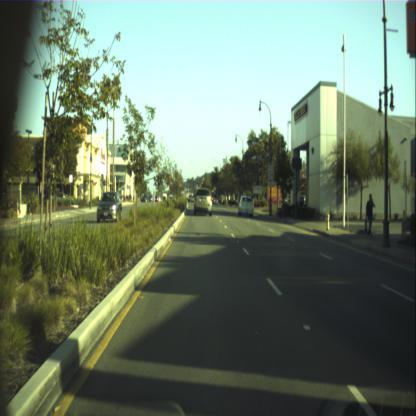Red: (188, 178, 190, 182), (202, 182, 204, 186)
Yellow: (212, 188, 213, 193)
